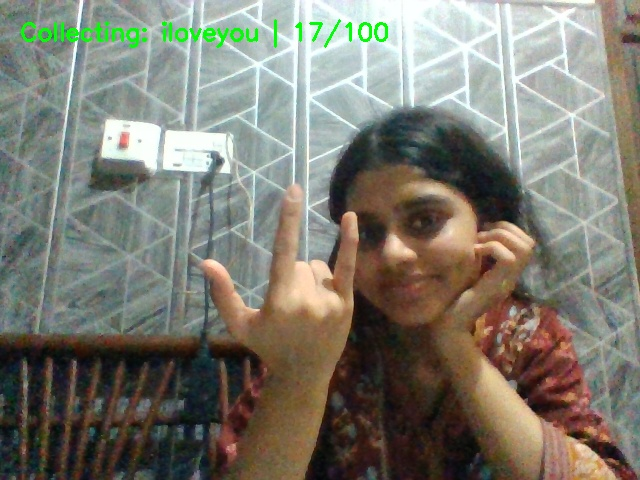iloveyou: (196, 179, 381, 395)
